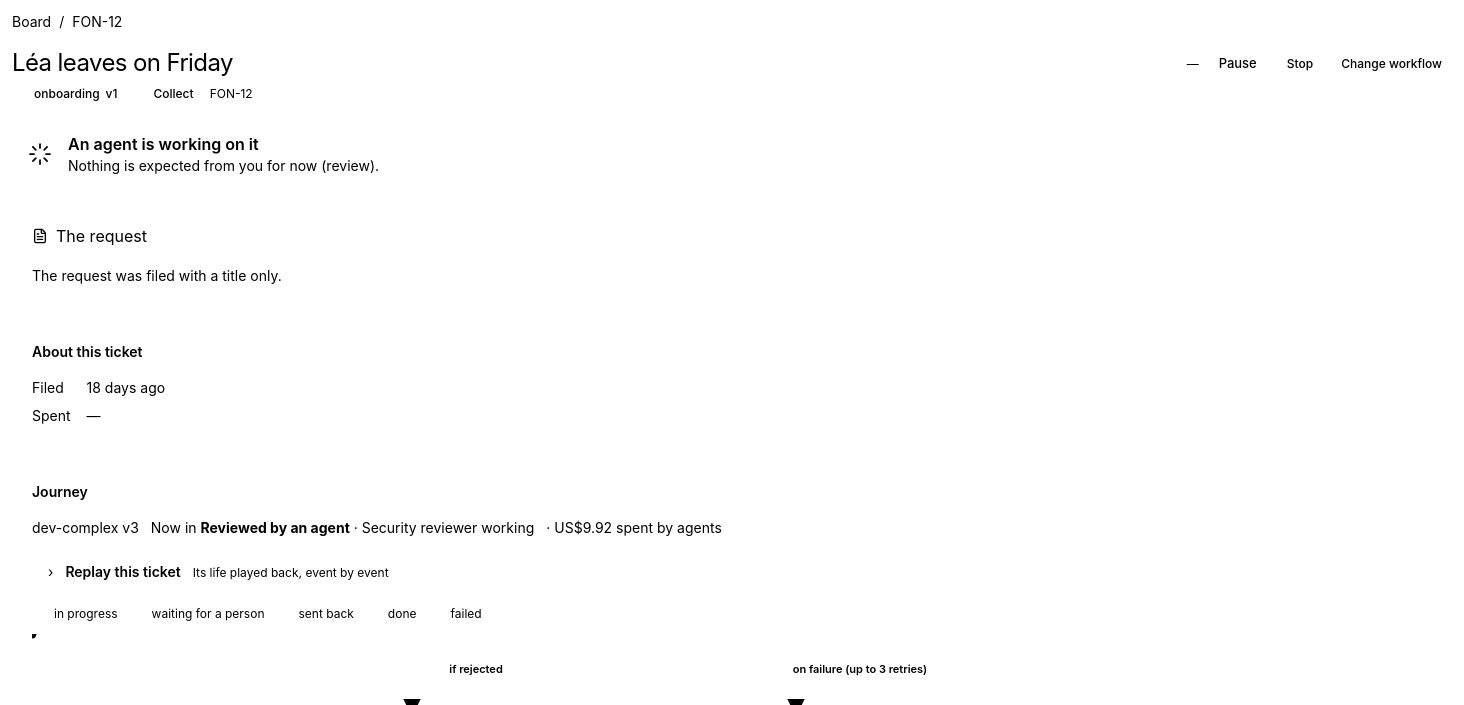
Scenario: a ticket changes workflow (S52-12, ADR 0123) › shows the API's refusal and stays open
Click the button "Change workflow".
click(1392, 64)  # box 1331,50 -> 1452,78
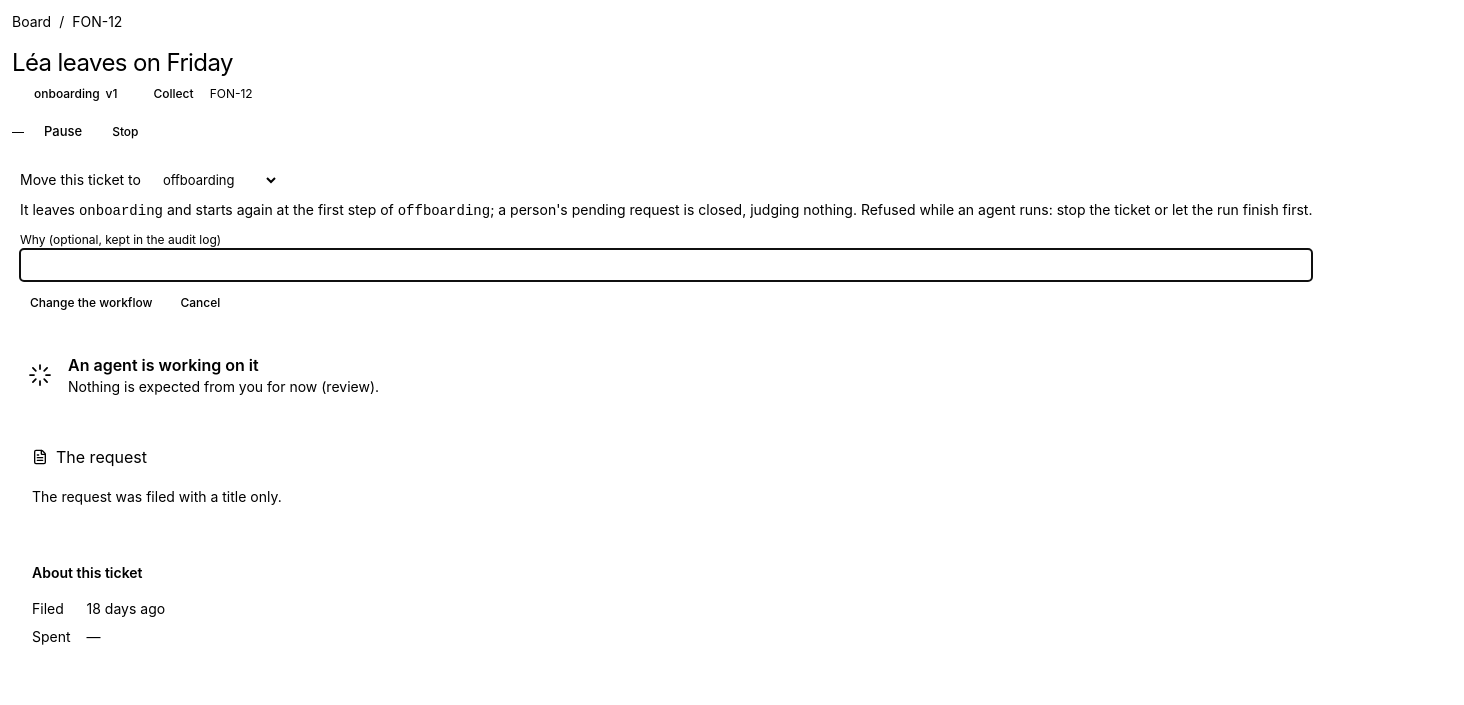
Click the button "Change the workflow".
click(91, 303)  # box 20,289 -> 162,317
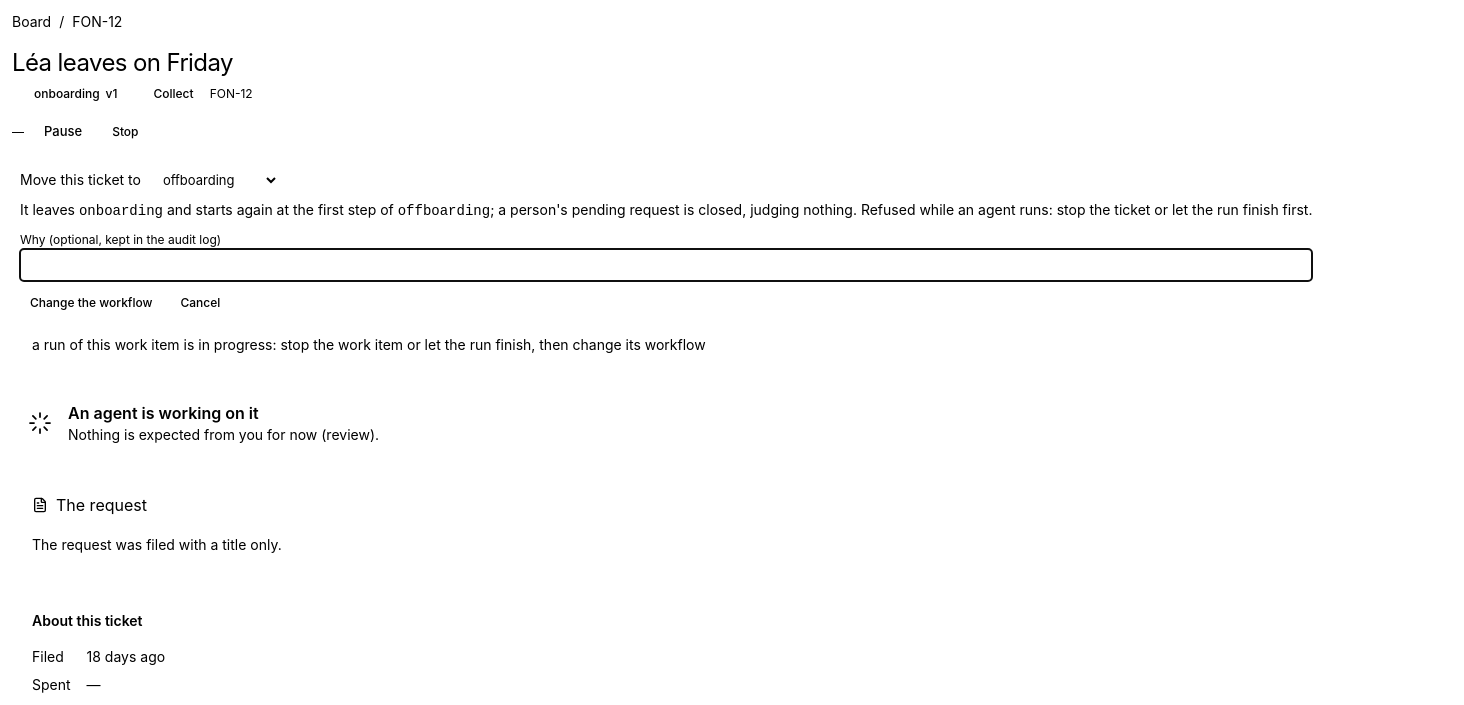
Check: the button "Change the workflow" is enabled, box 20,289 -> 162,317
Check: the text "a run of this work item is in progress" is shown, box 32,336 -> 706,353
